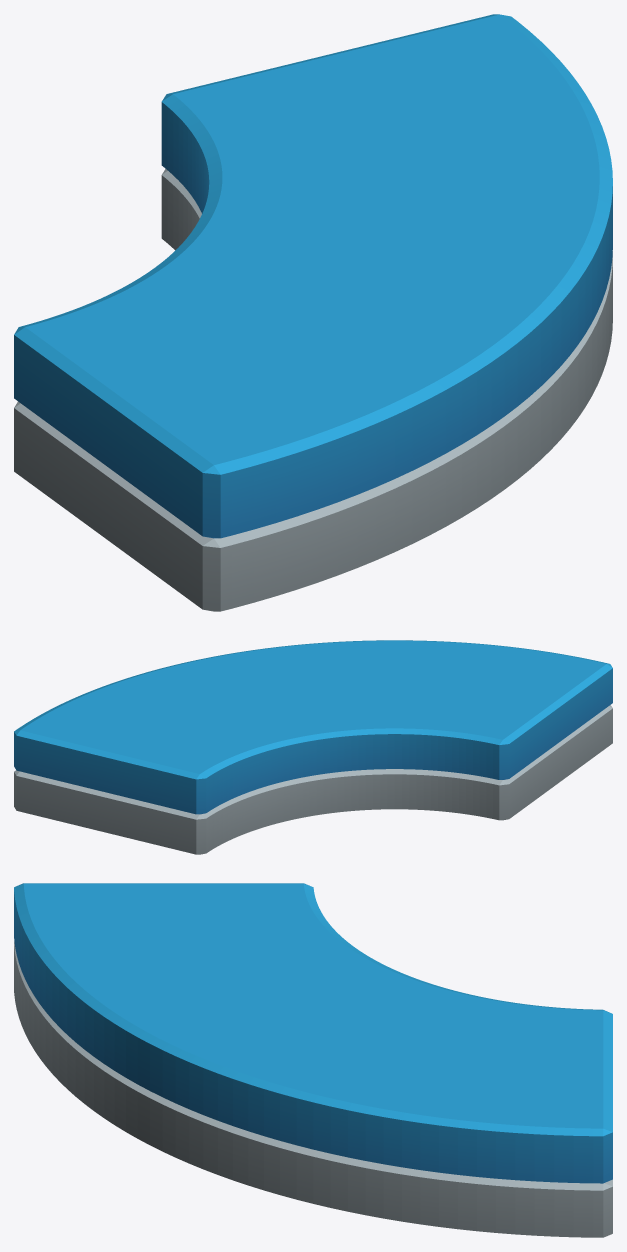
File: kaykit_platform_quarter_curve_5x5x1_blue.glb
3 views of the same model, one above another, from view 1: azimuth 30°, elevation 25°; view 2: azimuth 150°, elevation 25°; view 3: azimuth 270°, elevation 25° (orthographic). The views are drawn at different scales.
Parts seen in each view (by area): view 1: kaykit_platform_quarter_curve_blue_visual; view 2: kaykit_platform_quarter_curve_blue_visual; view 3: kaykit_platform_quarter_curve_blue_visual.
Part boxes in pixels (x1=…): kaykit_platform_quarter_curve_blue_visual: x1=14, y1=14, x2=612, y2=611; kaykit_platform_quarter_curve_blue_visual: x1=14, y1=640, x2=612, y2=854; kaykit_platform_quarter_curve_blue_visual: x1=14, y1=883, x2=612, y2=1237.
Size of what is drawn, in the model's own units: 5 by 1 by 5.
Materials: 1 (1 with a texture image).
